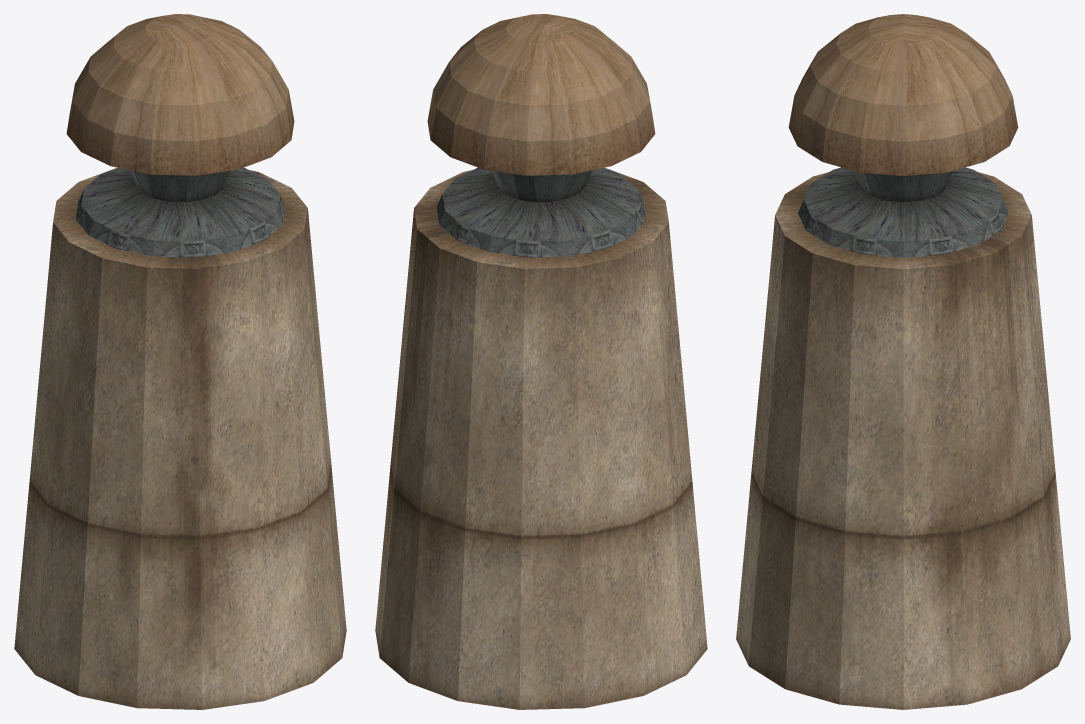
The model's file is thm_tato_jabbas_palace_tower_l1.fbx.
3 views of the same model, side by side, from view 1: azimuth 30°, elevation 25°; view 2: azimuth 150°, elevation 25°; view 3: azimuth 270°, elevation 25° (orthographic).
Parts seen in each view (by area): view 1: mesh_node; view 2: mesh_node; view 3: mesh_node.
Boxes of the visible parts, bbox=[...] form: mesh_node: bbox=[14, 14, 346, 709]; mesh_node: bbox=[375, 14, 707, 709]; mesh_node: bbox=[736, 14, 1070, 709].
Size of the model in its own units: 75.93 by 154 by 75.93.
